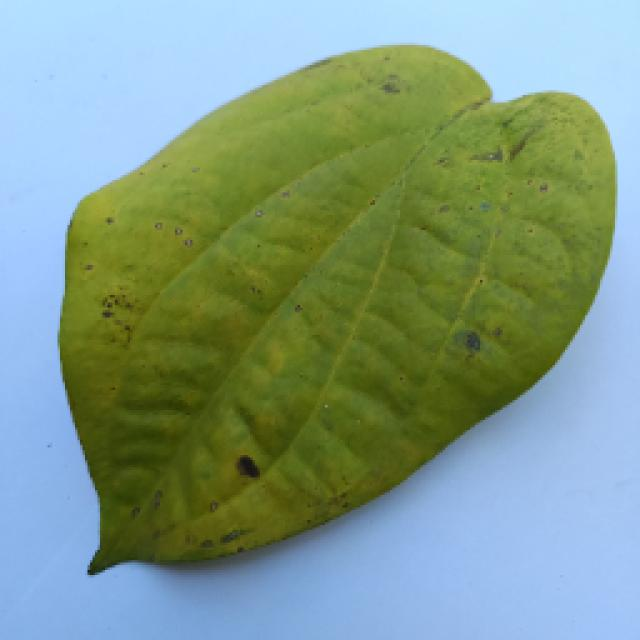slow-decline: (48, 55, 612, 577)
